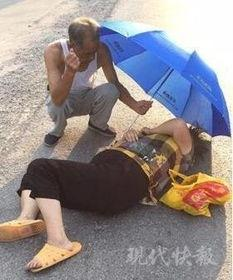bending: (35, 18, 151, 138)
down: (1, 118, 212, 272)
